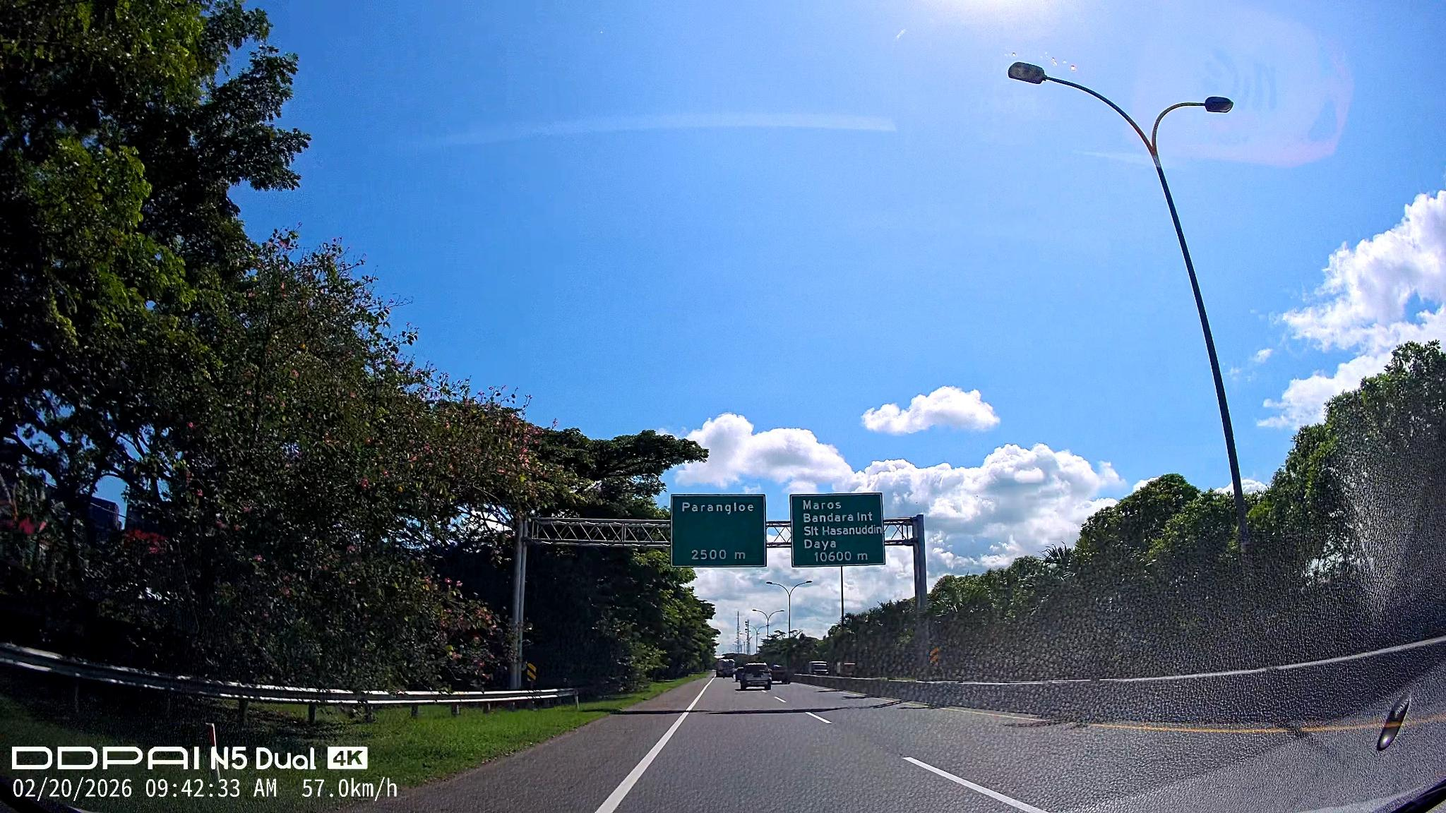rambu_teks: (788, 492, 887, 569), (670, 494, 768, 569)
